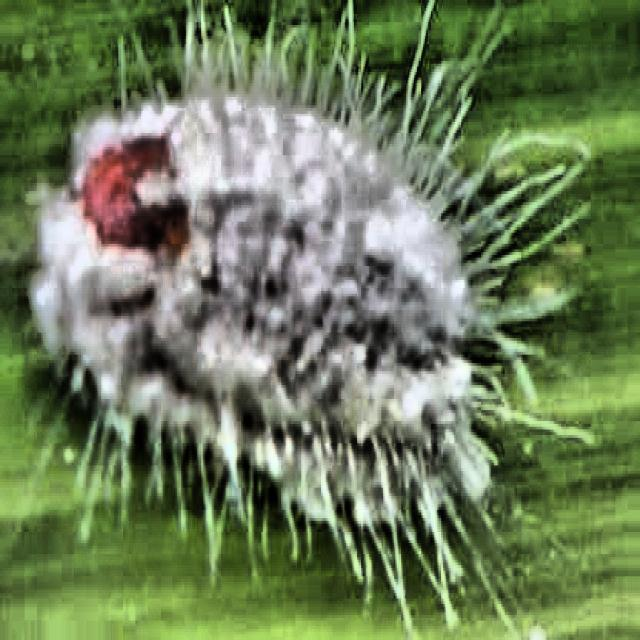Mealy-bug: (6, 6, 542, 624)
